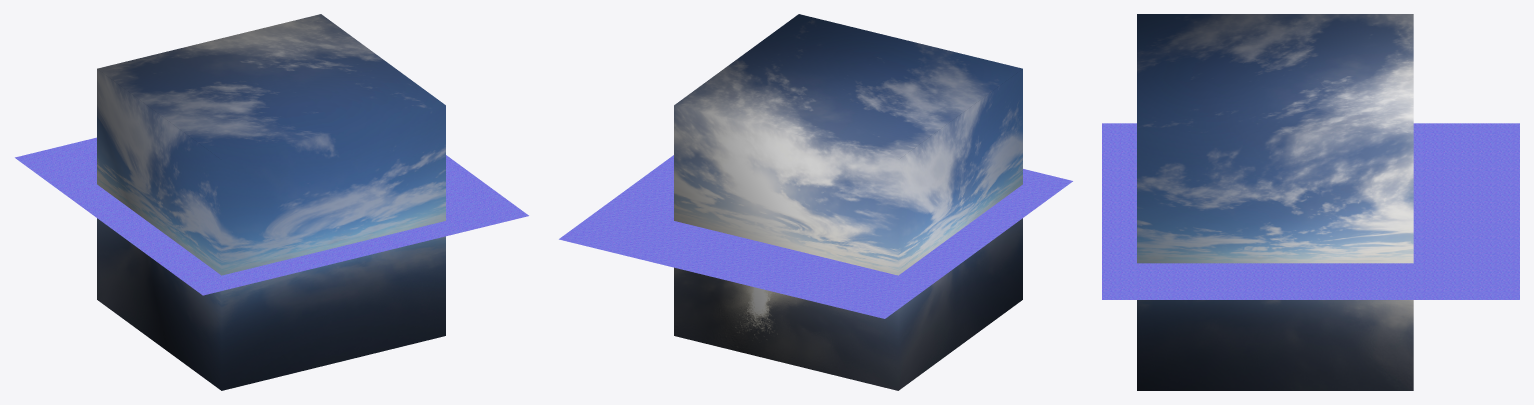
The model's file is sky2.obj.
3 renders of one model, left to right at view 1: azimuth 30°, elevation 25°; view 2: azimuth 150°, elevation 25°; view 3: azimuth 270°, elevation 25°, orthographic. The views are drawn at different scales.
Bounding box in the file's own units: 200 × 135 × 200.
Materials: 5 (5 with a texture image).
